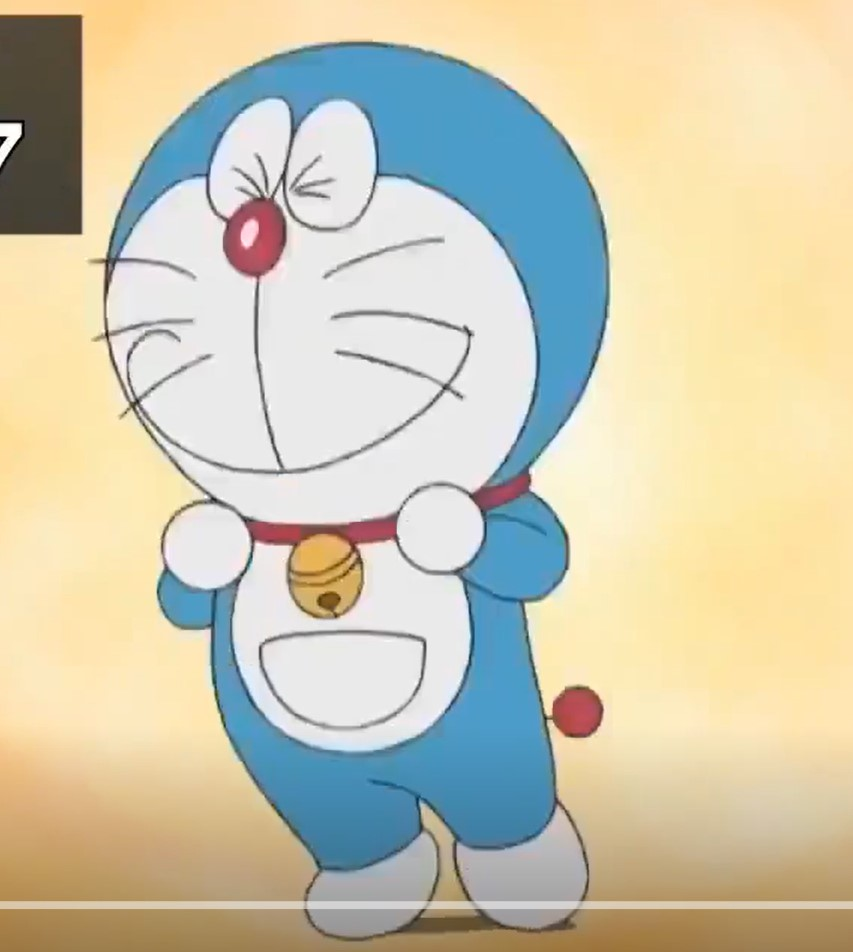doraemon: (97, 39, 605, 932)
